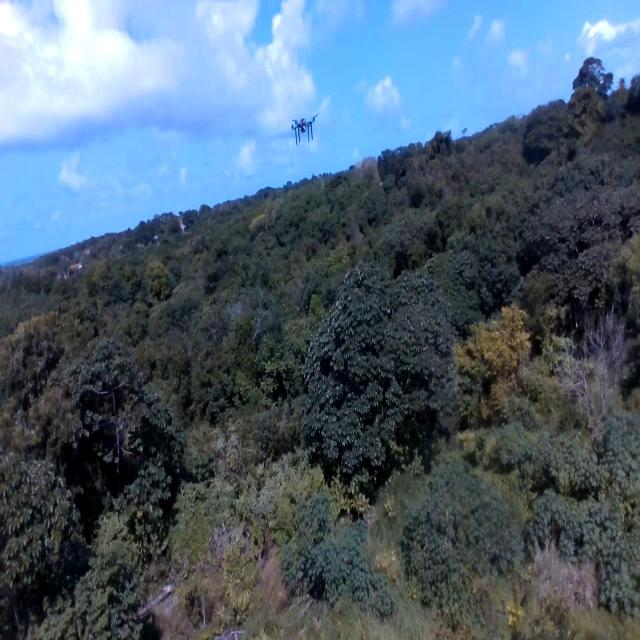-uav-: (284, 107, 325, 151)
